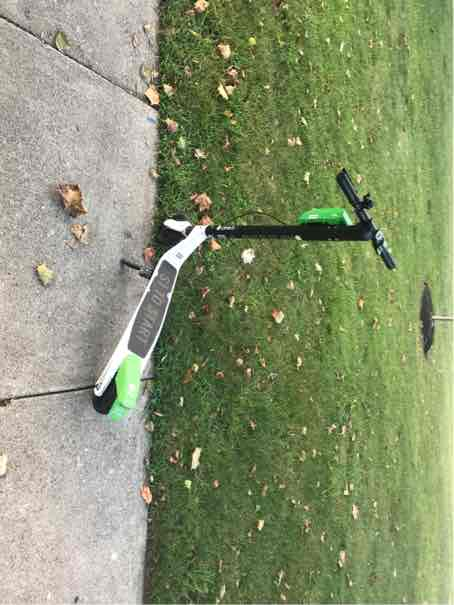scooter: (68, 152, 420, 420)
